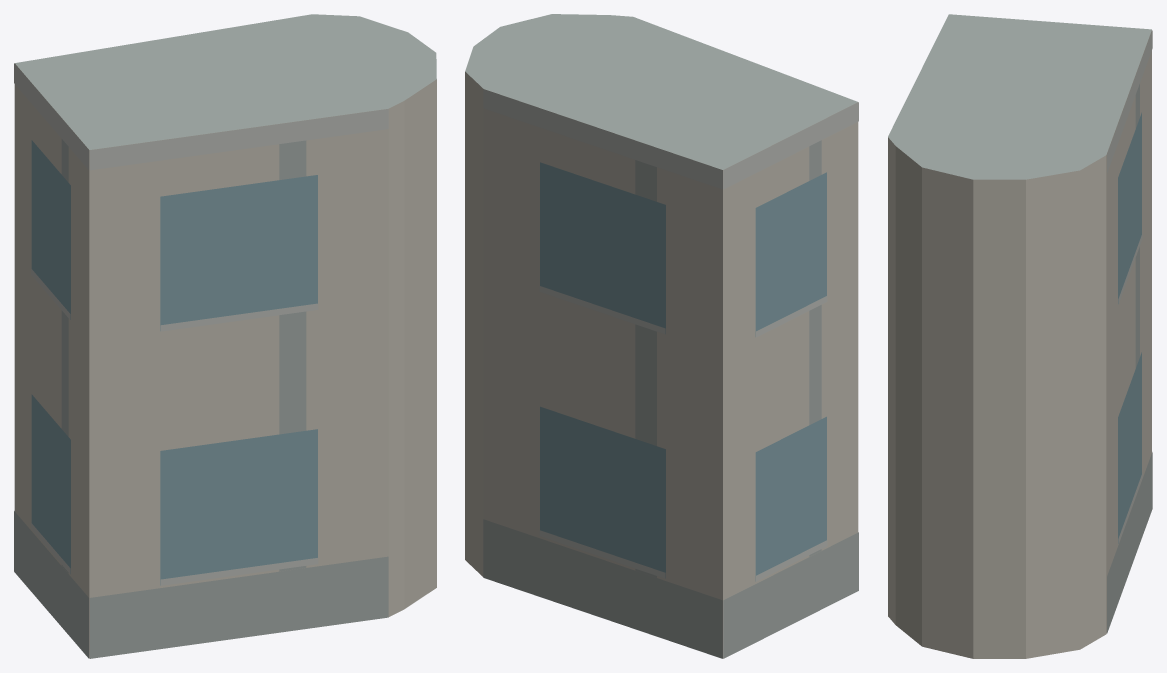
File: survey-upis-32702757.glb
The picture shows the model from 3 angles, left to right: view 1: azimuth 30°, elevation 25°; view 2: azimuth 150°, elevation 25°; view 3: azimuth 270°, elevation 25°; orthographic projection. The views are drawn at different scales.
Parts seen in each view (by area): view 1: survey-upis-32702757.tmp; view 2: survey-upis-32702757.tmp; view 3: survey-upis-32702757.tmp.
Boxes of the visible parts, x1,y1,x2,y2 form: survey-upis-32702757.tmp: [14, 14, 436, 658]; survey-upis-32702757.tmp: [465, 14, 858, 658]; survey-upis-32702757.tmp: [888, 14, 1152, 658].
Size of the model in its own units: 4.52 by 6.1 by 3.06.
